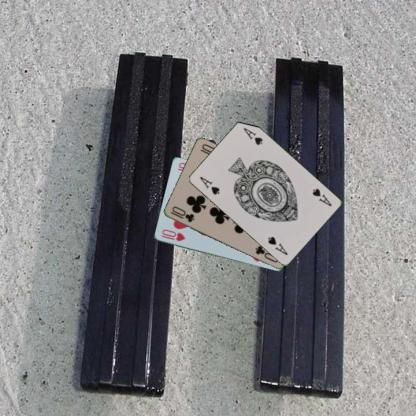10c: (167, 204, 196, 224)
10h: (158, 226, 186, 243)
As: (196, 174, 221, 196), (310, 186, 332, 207)
